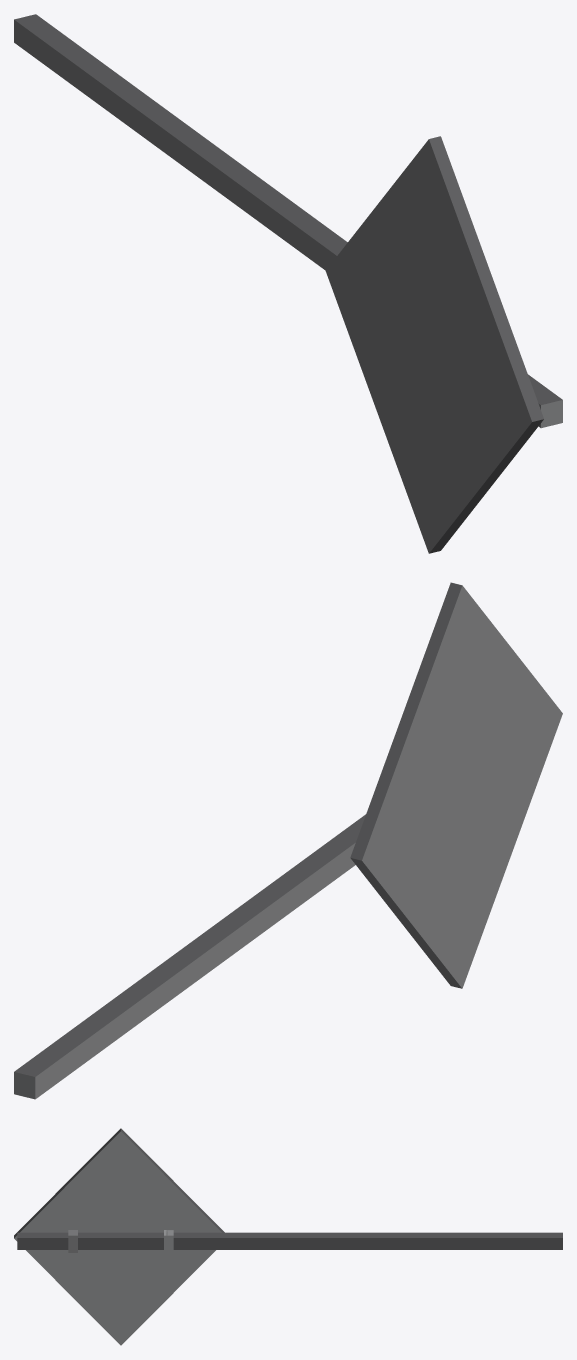
The picture shows the model from 3 angles, top to bottom: view 1: azimuth 30°, elevation 25°; view 2: azimuth 150°, elevation 25°; view 3: azimuth 270°, elevation 25°; orthographic projection. The views are drawn at different scales.
Size of the model in its own units: 0.088 by 0.99 by 2.29.
